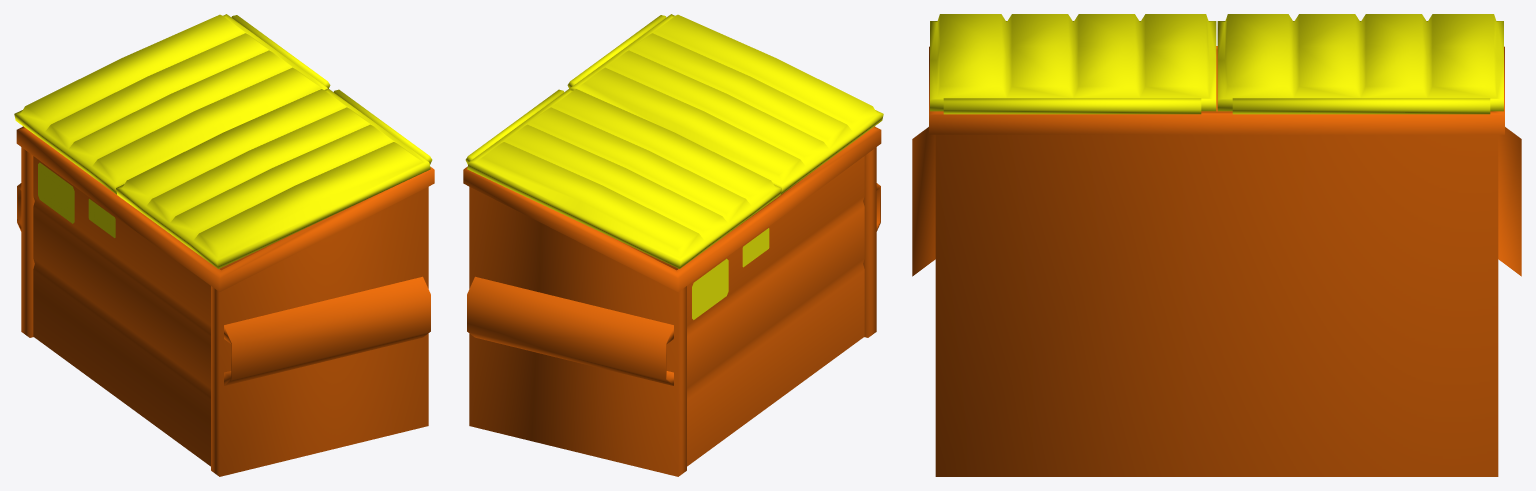
File: DumpsterRed.glb
The picture shows the model from 3 angles, left to right: view 1: azimuth 30°, elevation 25°; view 2: azimuth 150°, elevation 25°; view 3: azimuth 270°, elevation 25°; orthographic projection. The views are drawn at different scales.
Parts seen in each view (by area): view 1: DumpsterRed; view 2: DumpsterRed; view 3: DumpsterRed.
Part boxes in pixels (box(x1,y1,x2,y2)): DumpsterRed: box(14, 14, 434, 476); DumpsterRed: box(463, 14, 883, 476); DumpsterRed: box(912, 14, 1521, 476).
Bounding box in the file's own units: 1.93 × 2.26 × 3.25.
1 material, 1 textured.
